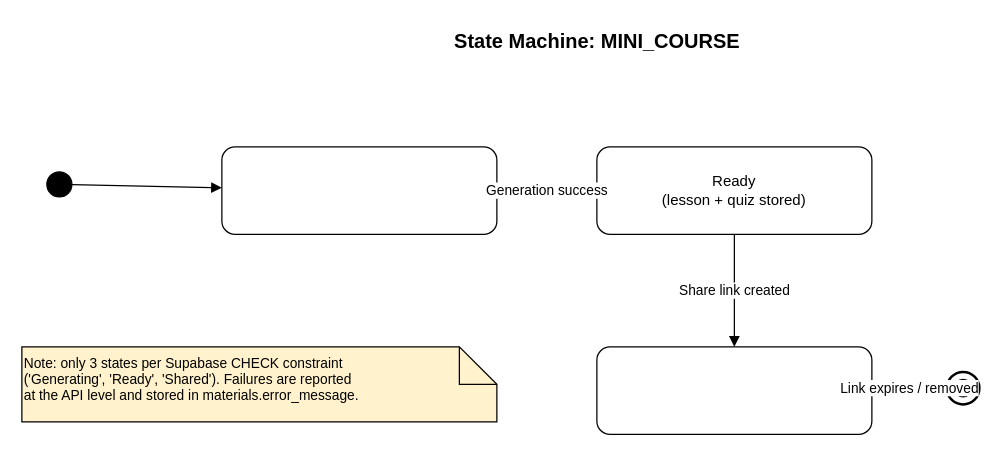
The diagram is 1003 pixels wide and 456 high, and some of its shapes have lost their labels. Here are the shapes that lost their labels. From the top down, the centre of each, then its label:
At (x=359, y=190): "Generating (RAG pipeline running)".
At (x=734, y=390): "Shared (public link active)".
